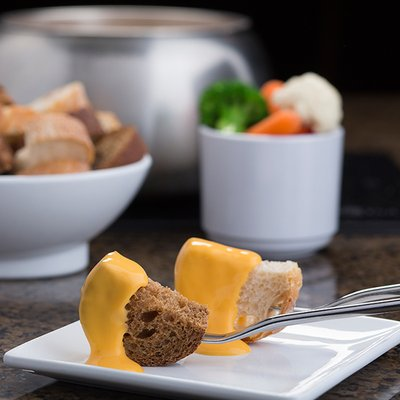curry: (198, 76, 268, 133)
pizza: (195, 123, 346, 261)
sushi: (0, 78, 153, 252)
taco: (174, 236, 303, 336)
